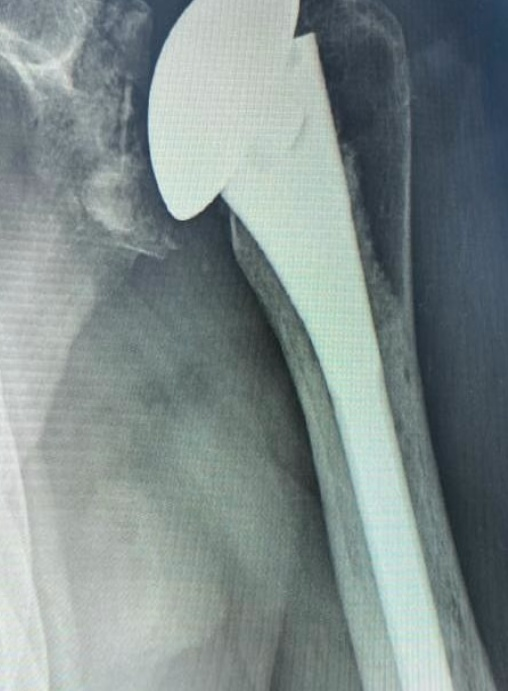Shoulder - Anotomical - Stryker: (138, 1, 357, 225)
